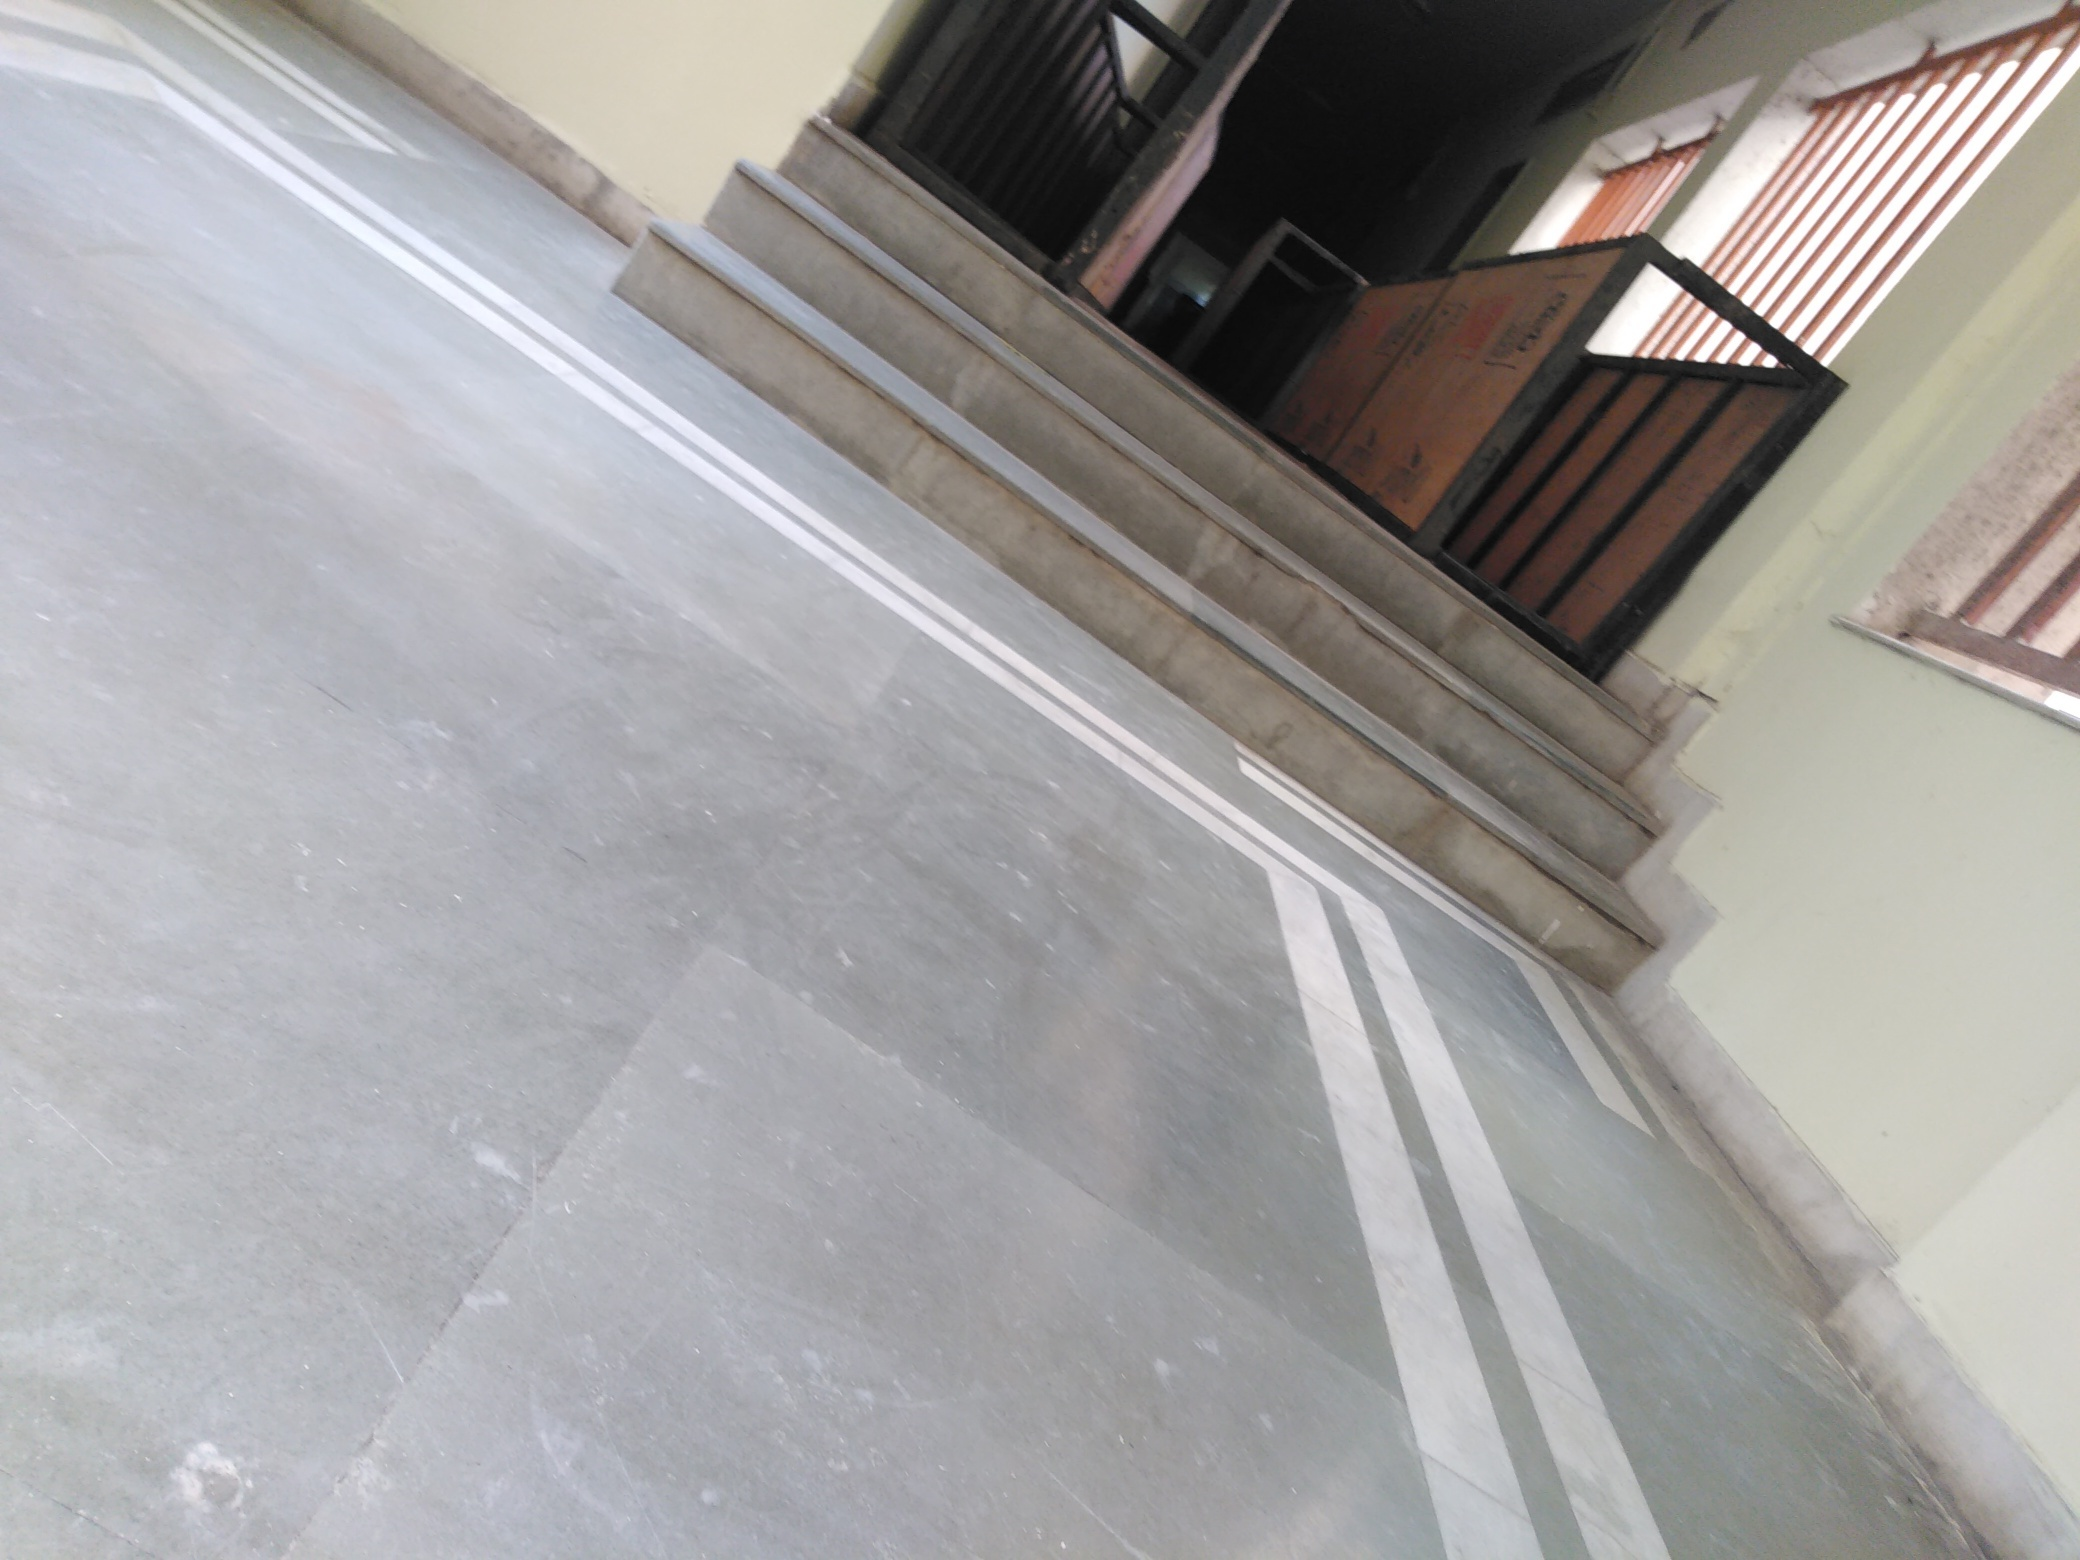stairs_up: (884, 262, 1544, 770)
